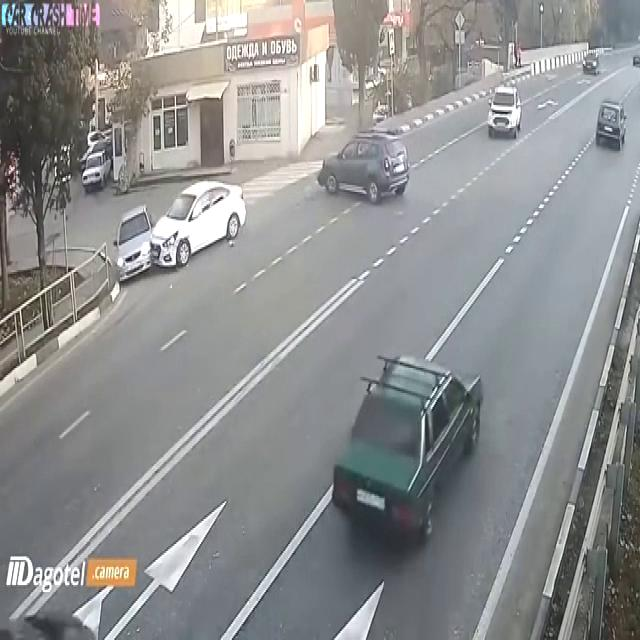accident: (119, 180, 248, 280)
